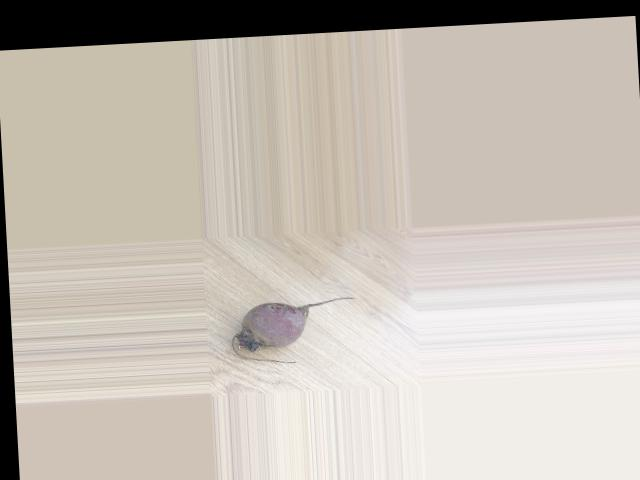beet: (229, 296, 359, 366)
